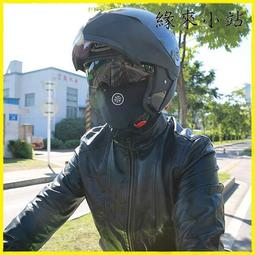helmet: (67, 11, 187, 106)
